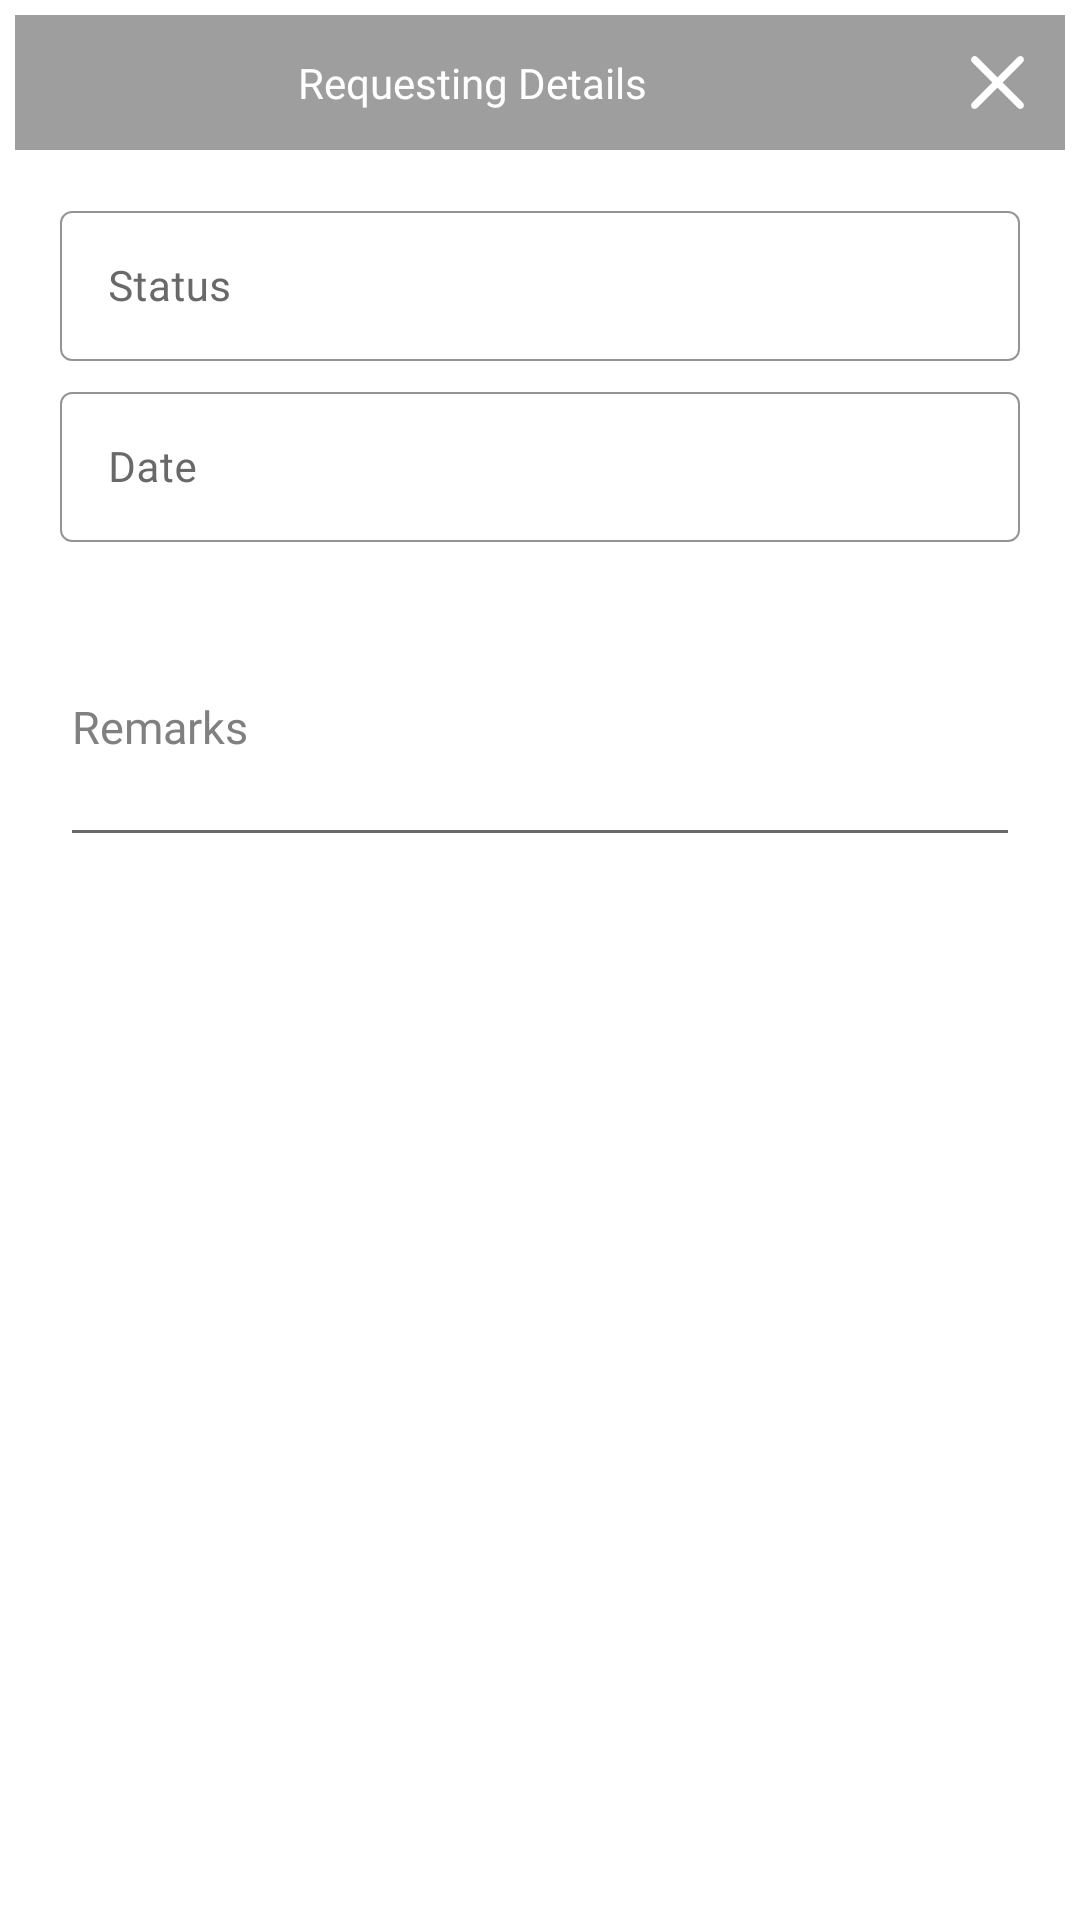

Named icons in this screenshot (1080px×1920px) and their bounding boxes, bbox=(x1, y1, x2, y2):
close: bbox=(930, 15, 1065, 150)
